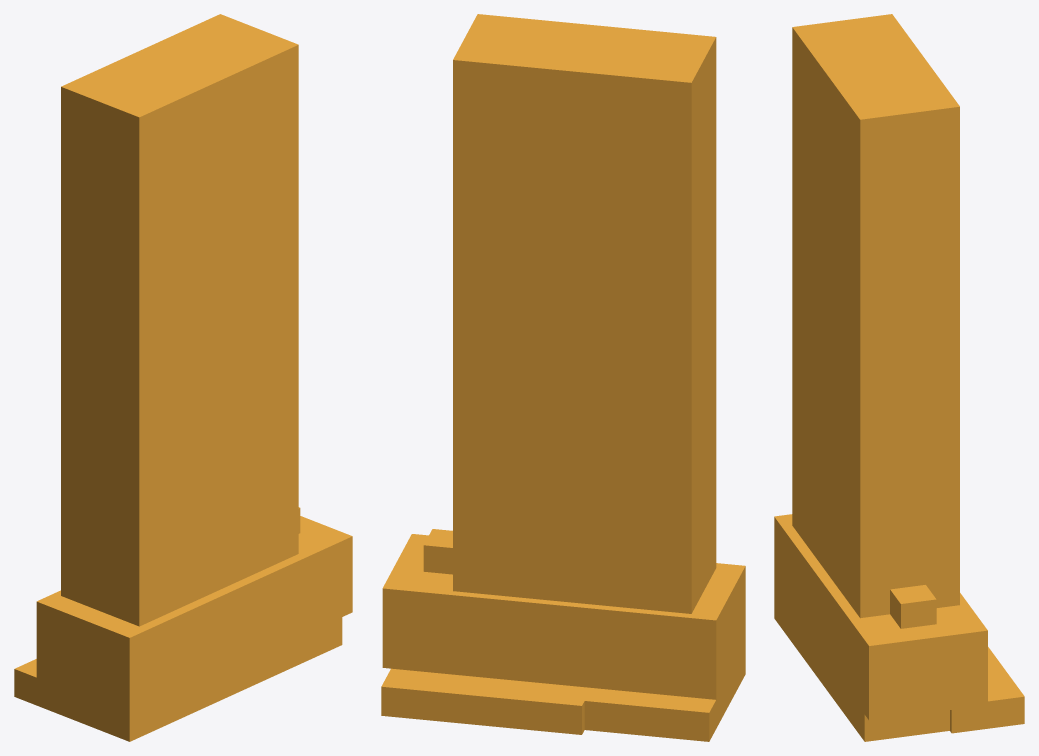
Rendered from dundas_500.glb.
3 views of the same model, side by side, from view 1: azimuth 30°, elevation 25°; view 2: azimuth 150°, elevation 25°; view 3: azimuth 270°, elevation 25° (orthographic). The views are drawn at different scales.
Parts seen in each view (by area): view 1: empty_16, empty_18; view 2: empty_16; view 3: empty_16, empty_18.
Boxes of the visible parts, <box> form: empty_16: <box>14,14,352,741</box>; empty_18: <box>129,617,342,741</box>; empty_16: <box>381,14,745,741</box>; empty_16: <box>774,14,1024,741</box>; empty_18: <box>774,591,864,741</box>.
Bounding box in the file's own units: 64.29 × 121 × 45.74.
